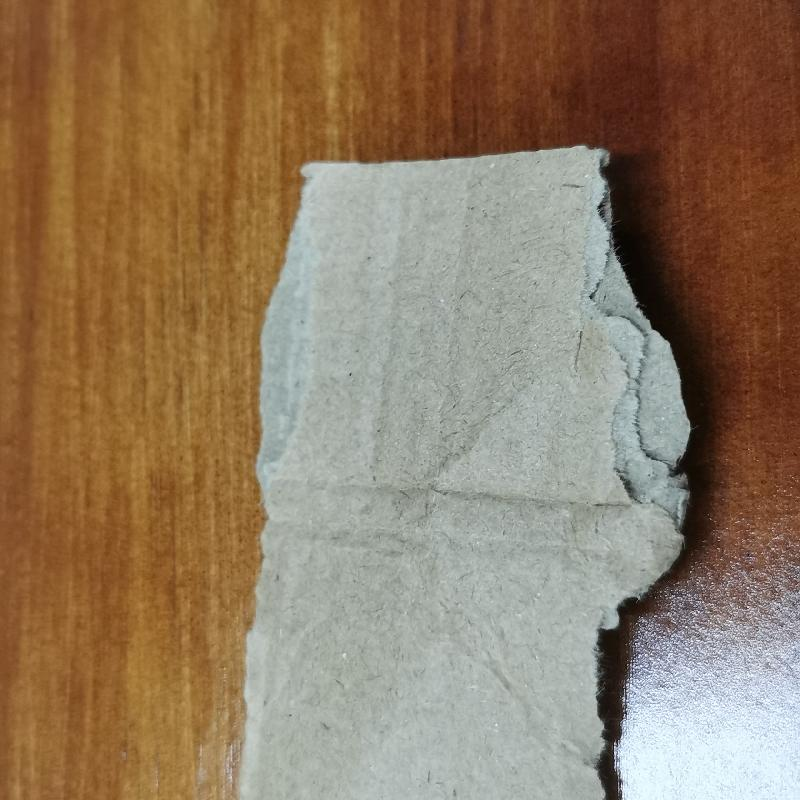boxes: (243, 140, 696, 800)
